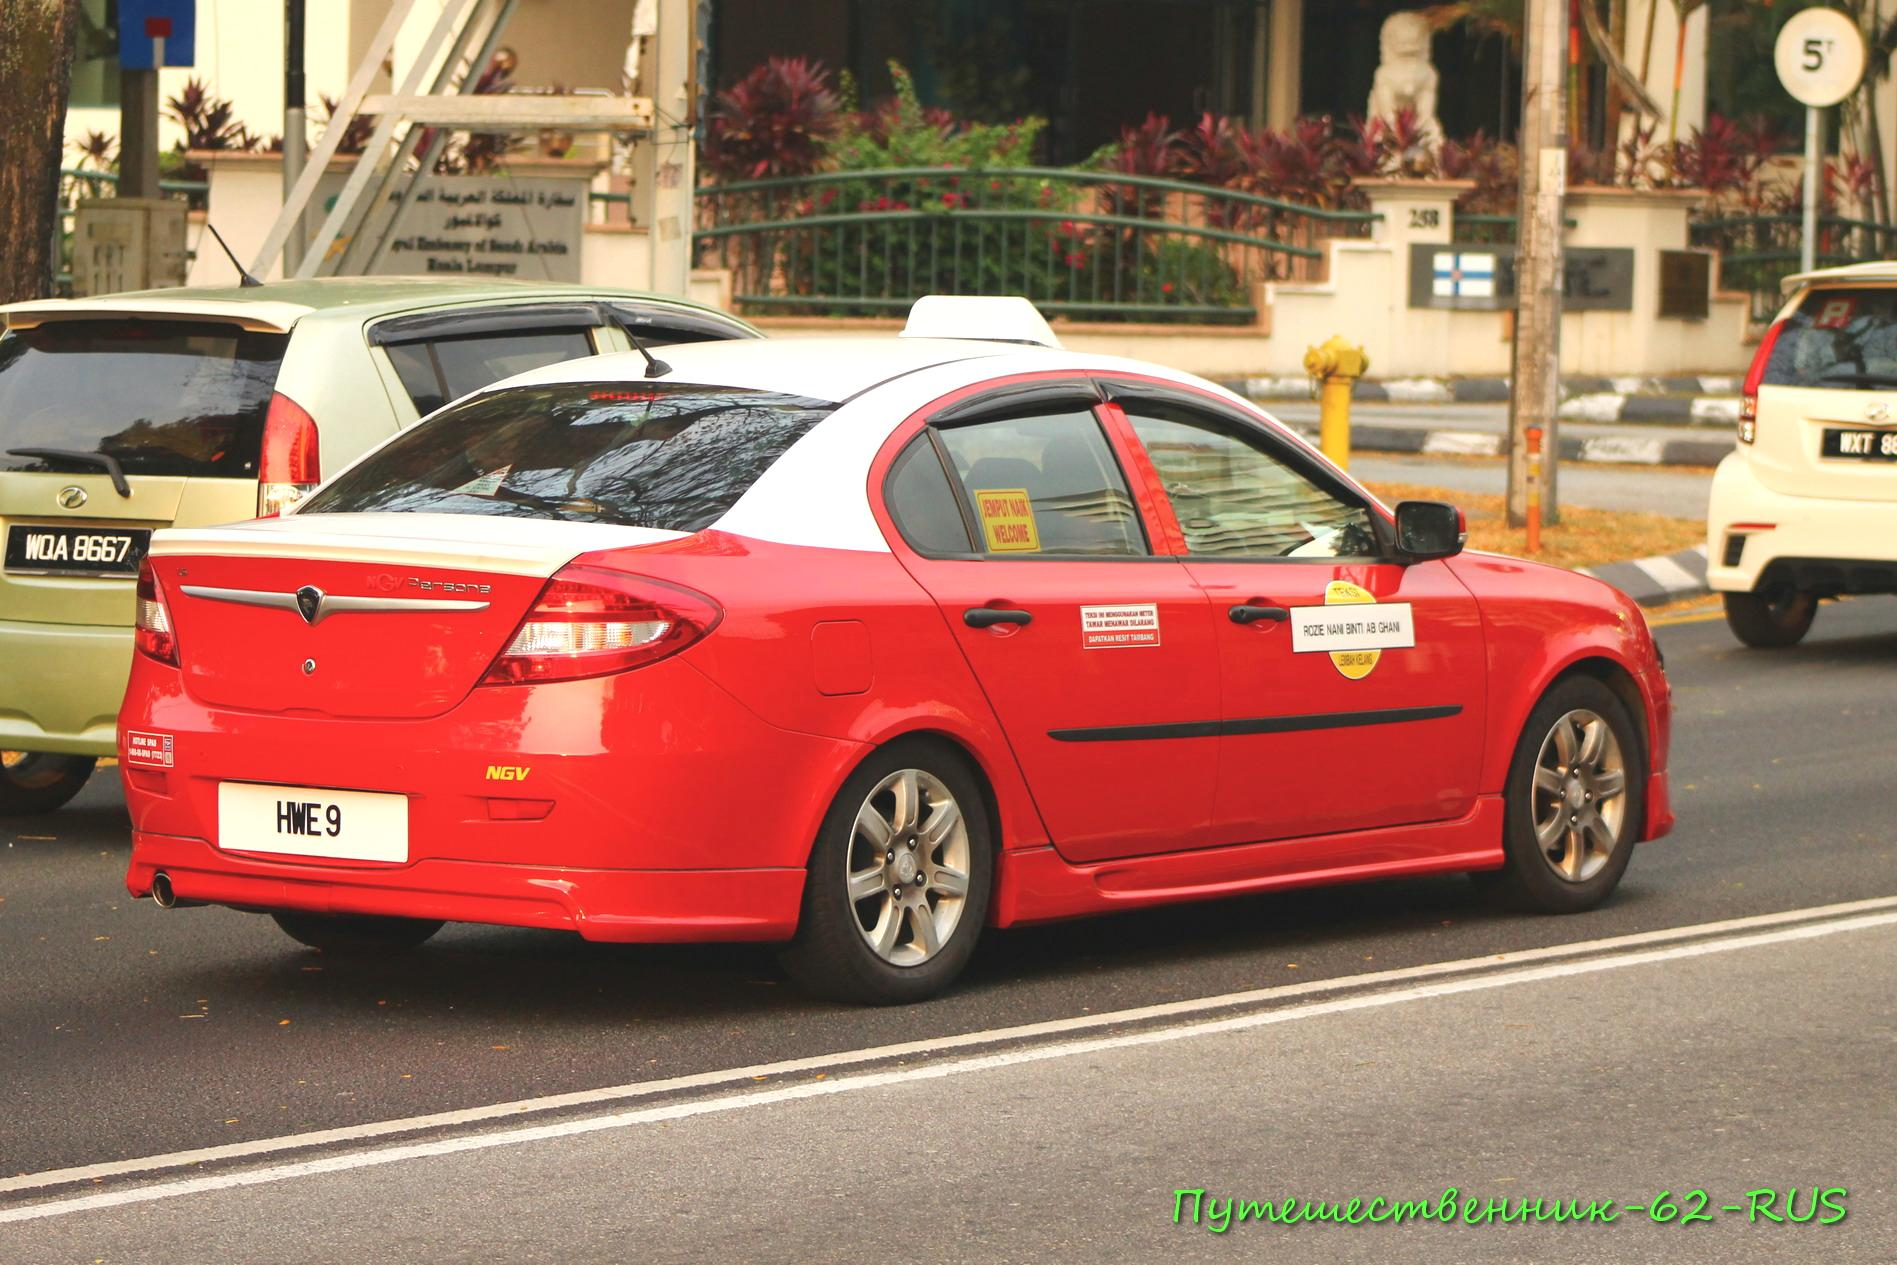License Plate: (221, 781, 407, 862)
